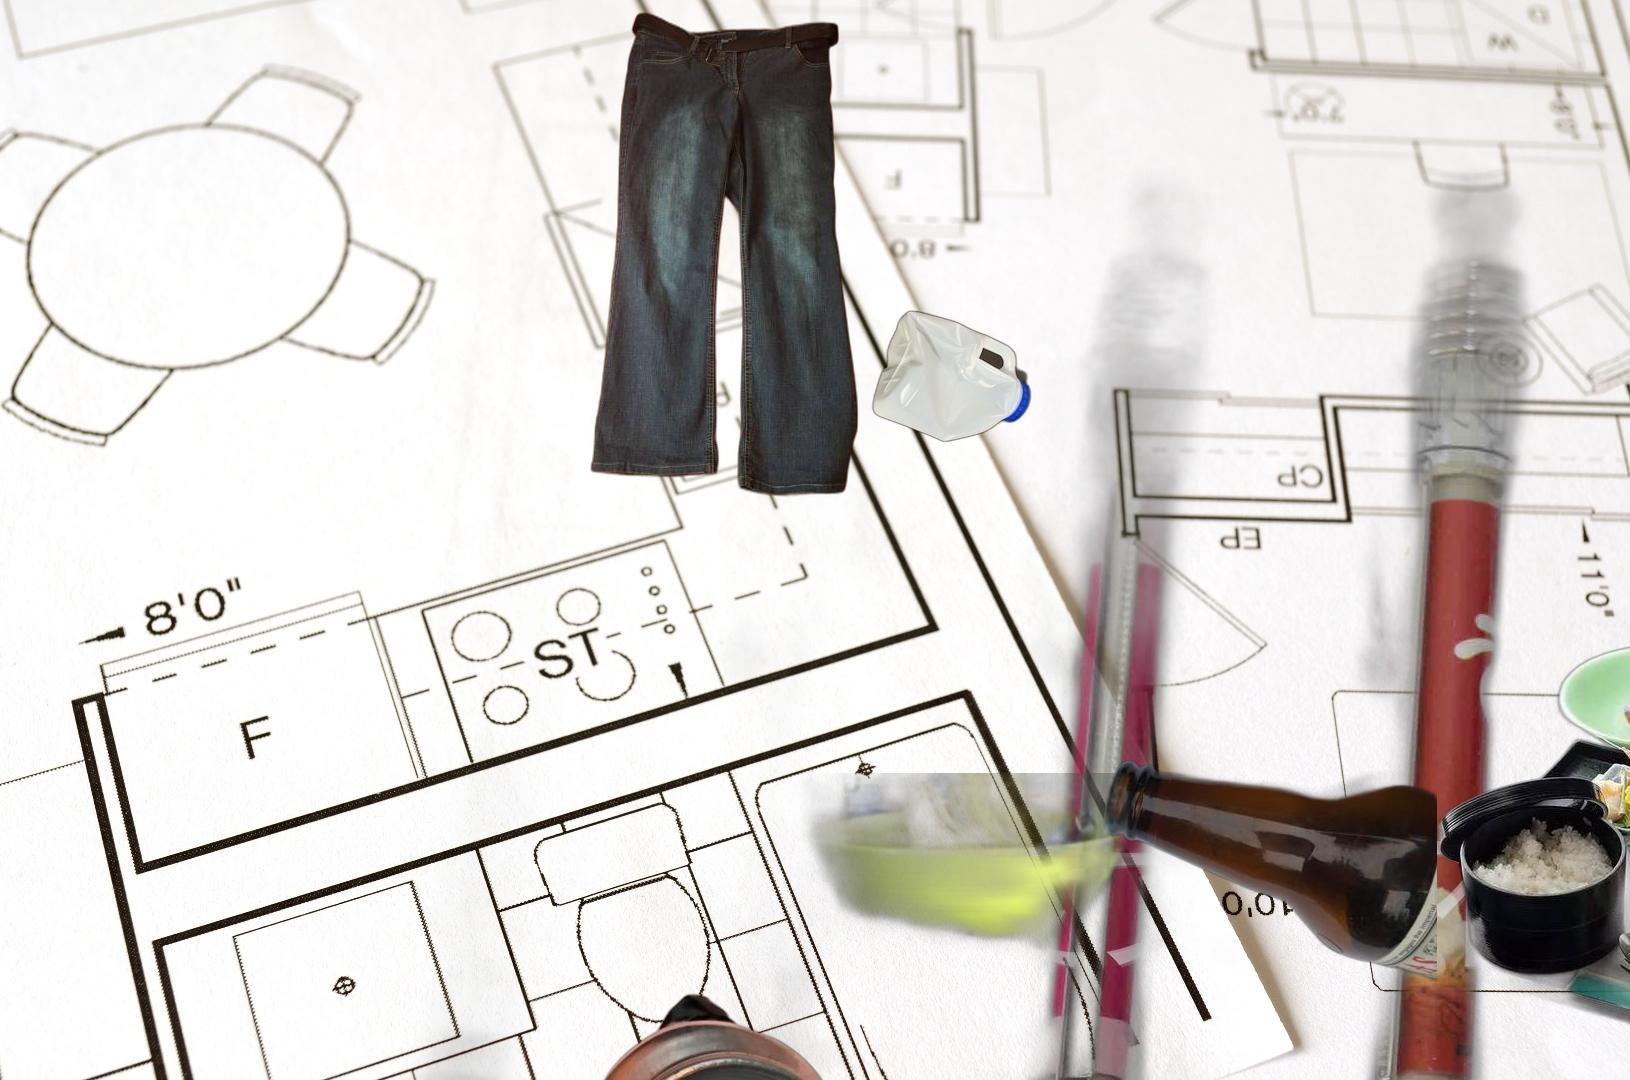biological: (1435, 642, 1630, 1049)
clothes: (587, 8, 863, 501)
glass: (1099, 758, 1437, 984)
metal-cans: (564, 991, 870, 1080)
penholder: (348, 130, 1630, 1080)
plastic-bottles: (869, 307, 1036, 445)
trashbox-cardboard: (237, 773, 1182, 1080)
